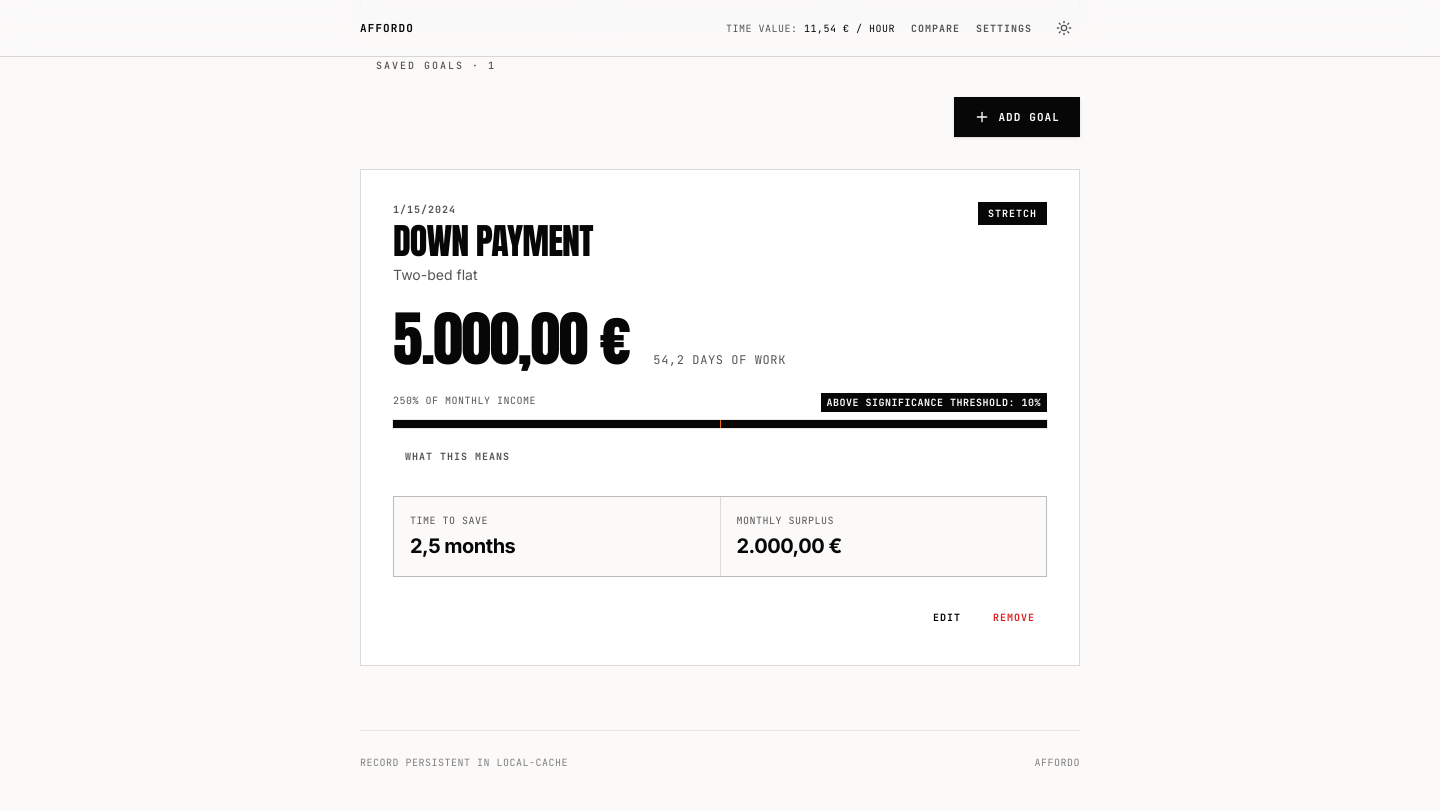
Test: Editing a goal — opening the dialog › pre-fills the dialog with the goal's own values
(page scrolled)
Click the button "Edit" at (947, 617), box [921, 601, 973, 633]
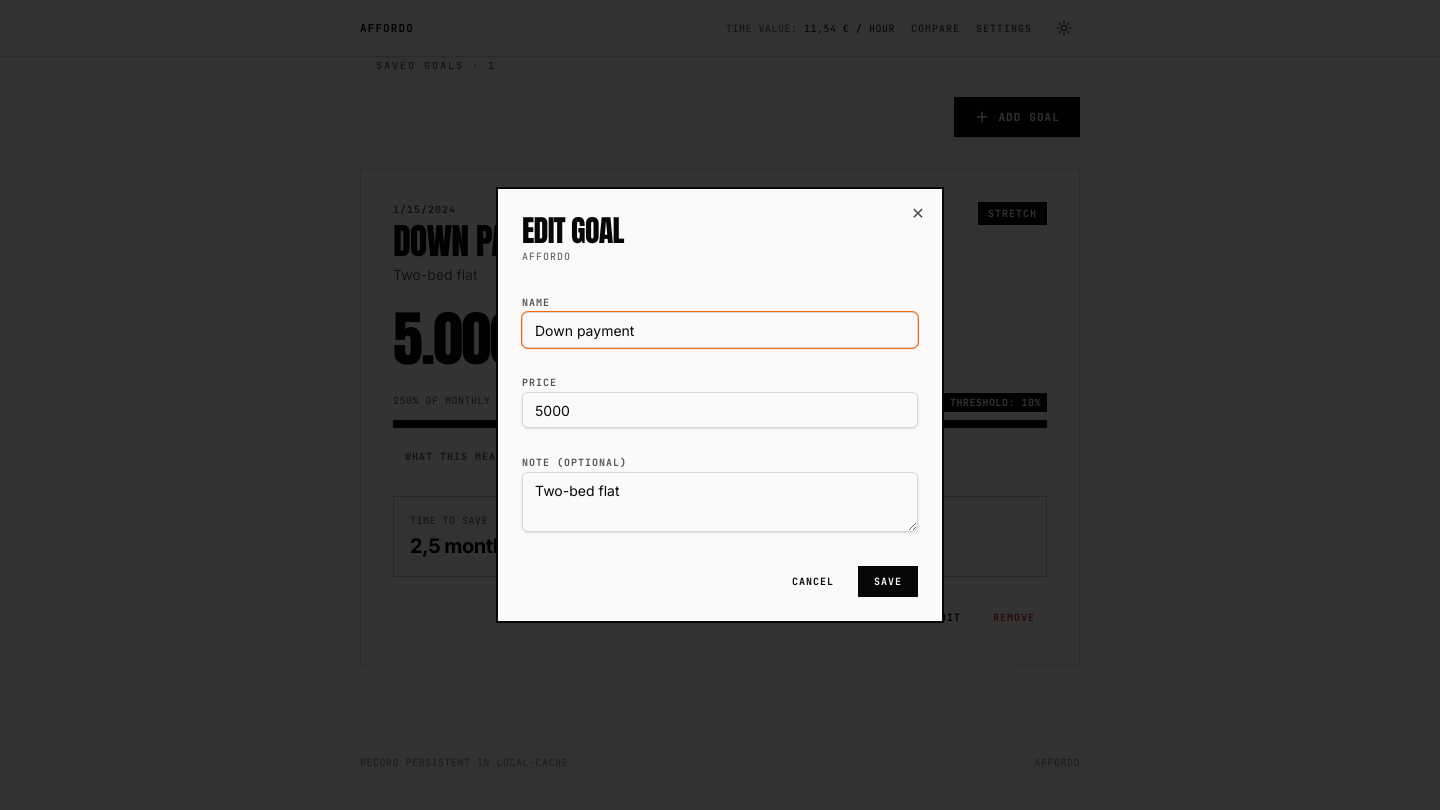
Expected: the field labelled "Name" holds "Down payment", [522, 312, 918, 348]
Expected: the number field labelled "Price" holds "5000", [522, 392, 918, 428]
Expected: the text box labelled "Note (optional)" holds "Two-bed flat", [522, 472, 918, 532]
